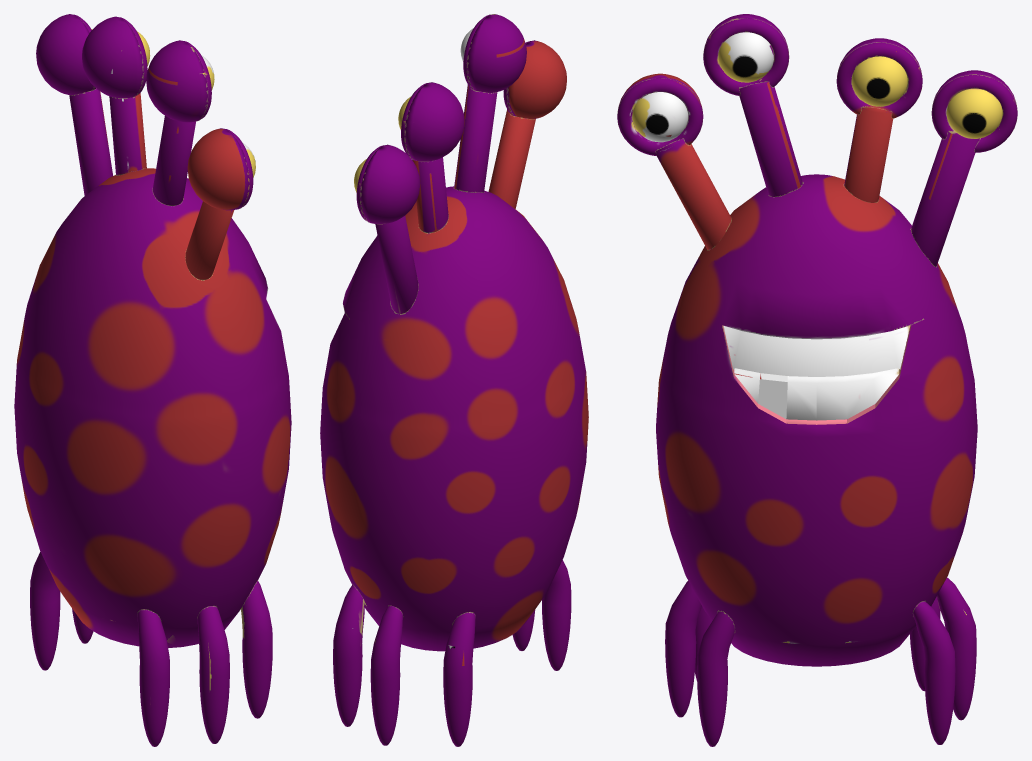
The model's file is SpiderMonster.fbx.
The picture shows the model from 3 angles, left to right: view 1: azimuth 30°, elevation 25°; view 2: azimuth 150°, elevation 25°; view 3: azimuth 270°, elevation 25°; orthographic projection. The views are drawn at different scales.
Parts seen in each view (by area): view 1: Sphere; view 2: Sphere; view 3: Sphere.
Boxes of the visible parts, bbox=[...] form: Sphere: bbox=[14, 14, 291, 746]; Sphere: bbox=[320, 14, 588, 746]; Sphere: bbox=[617, 14, 1017, 746].
Bounding box in the file's own units: 119 × 335 × 173.
